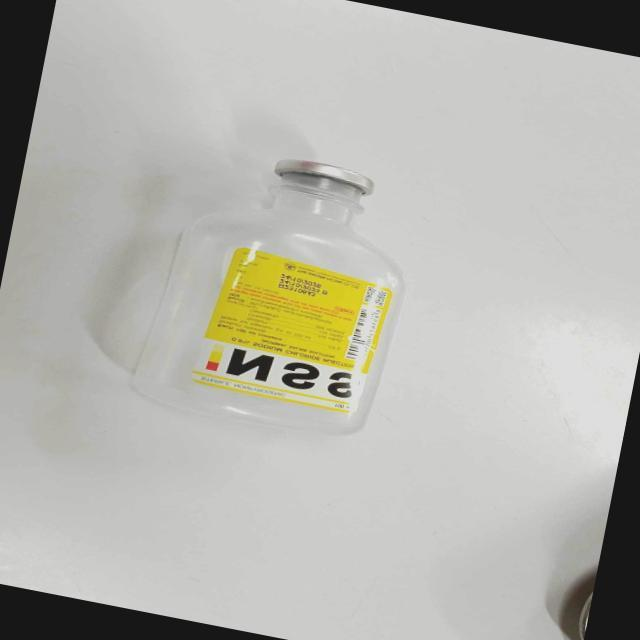General: (189, 243, 395, 417)
Infectious: (128, 157, 407, 434)
Pathological: (3, 1, 639, 637)
